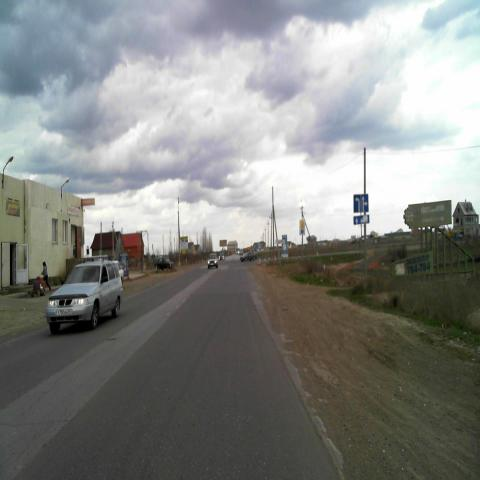6_15_1: (353, 213, 369, 224)
